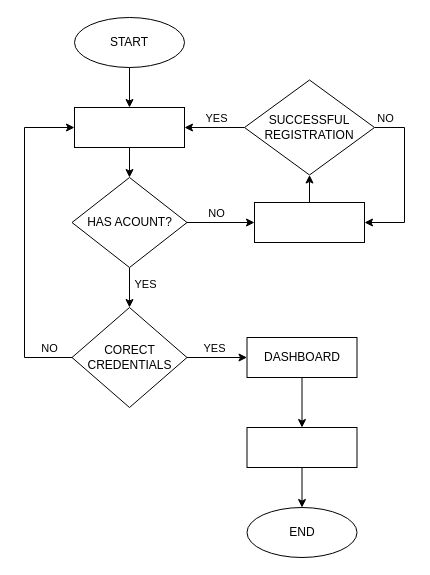
Some shapes in this 430 by 575 pixel diagram are drawn without their labels. The centre of each missing label's shape, as x and y in pixels:
"EXIT BUTTON" goes at [301,447].
"LOGIN" goes at [129,127].
"REGISTER" goes at [309,222].
